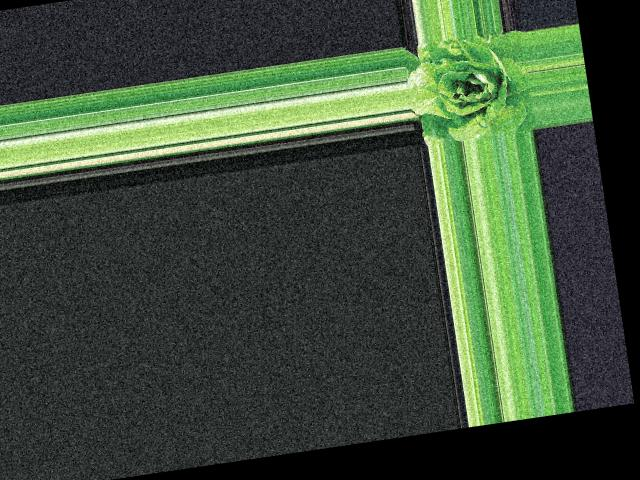lettuce: (407, 28, 534, 143)
